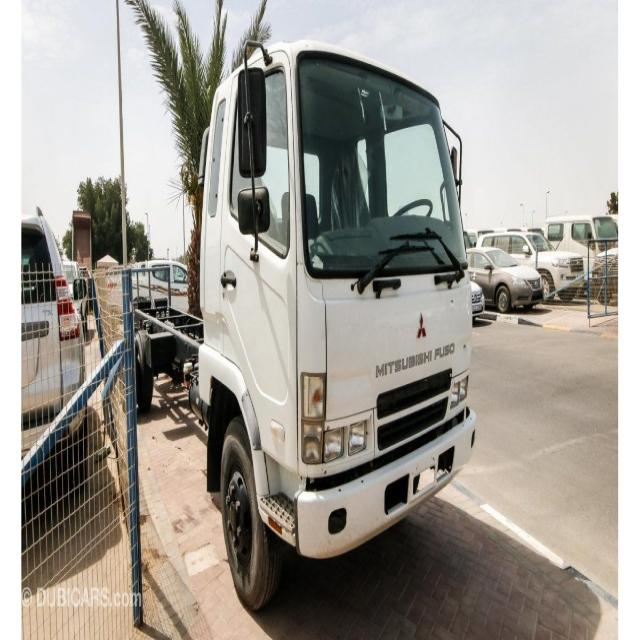truck: (133, 31, 476, 608)
